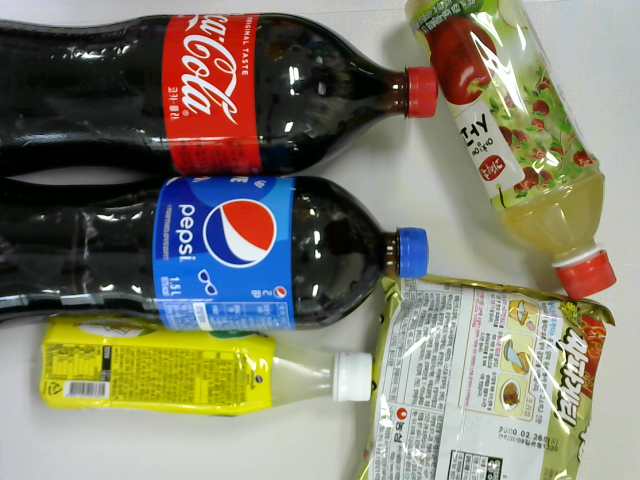Coca_Cola_1.5L: (1, 11, 441, 179)
Morning_Apple_500ml: (404, 1, 609, 303)
Olive_Chapaghetti: (353, 264, 613, 480)
Pepsi_Cola_1.5L: (1, 172, 429, 334)
Sunkist_Lemonaid_Pet: (35, 315, 376, 421)
